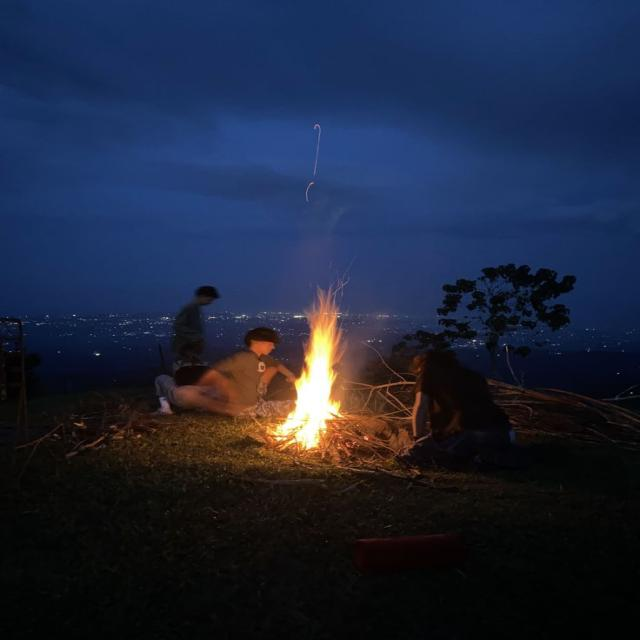fire: (270, 283, 345, 453)
